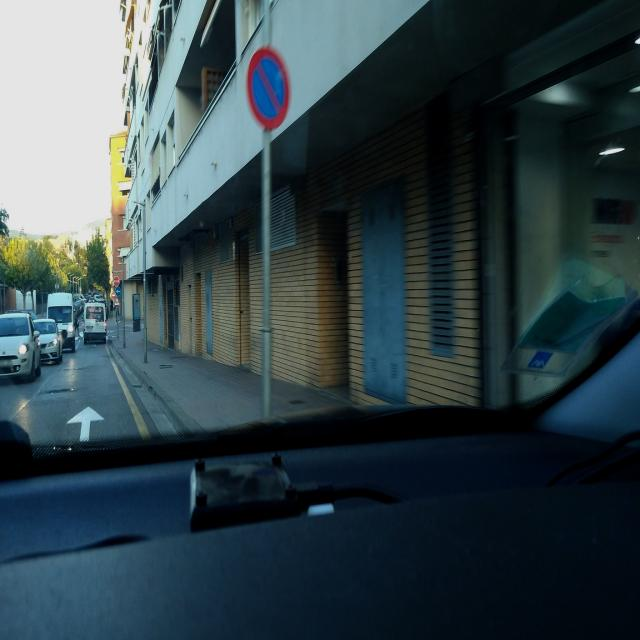car: (0, 308, 42, 384), (33, 316, 64, 364), (82, 303, 108, 346)
